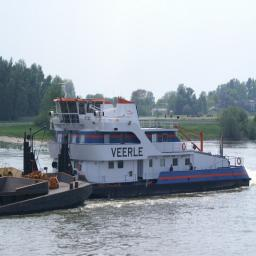tugboat: (21, 80, 254, 207)
